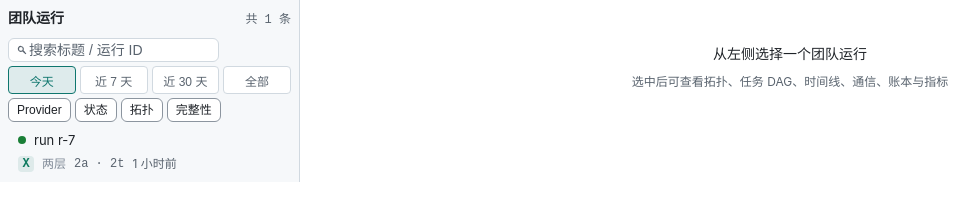
Test: TeamShell 六状态 › snapshot error 态渲染 ErrorState（非 404 错误）
Step 1. Click the option with class "team-row" → (55, 140), box [18,132,177,172]
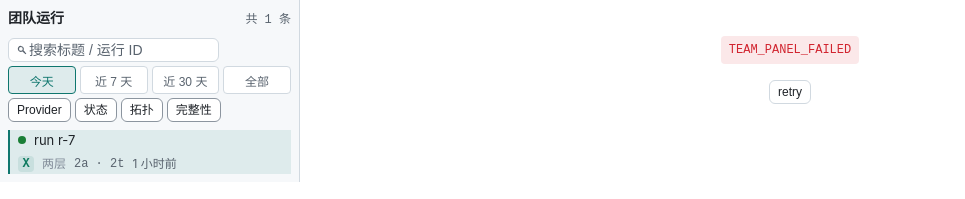
Result: the message "TEAM_PANEL_FAILED retry" is shown at [721,36,859,104]
